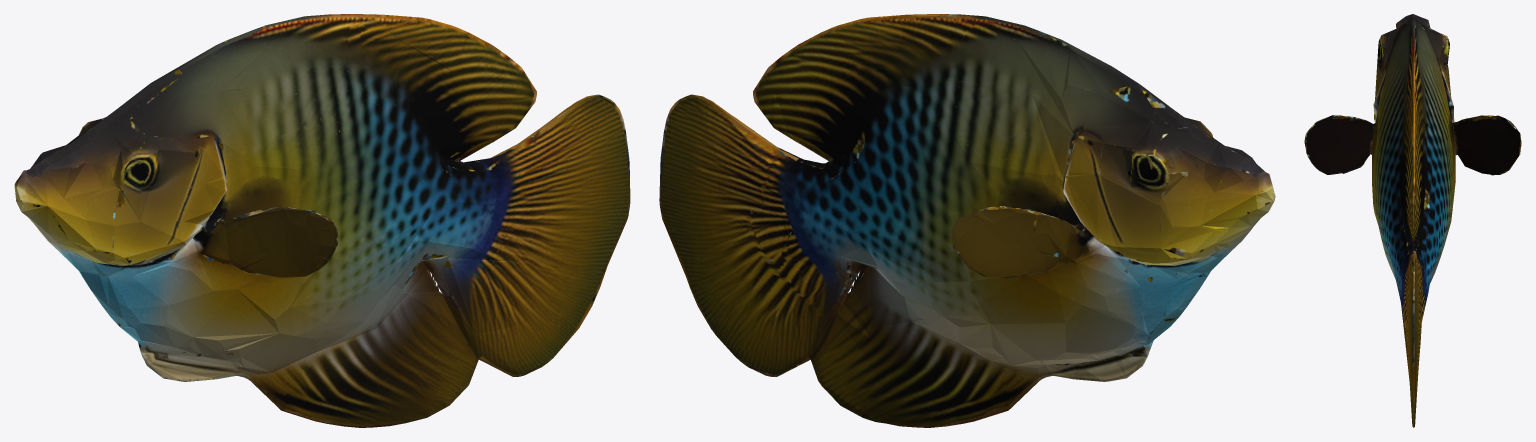
The model's file is fish_0081_smpl23_resized.glb.
3 renders of one model, left to right at view 1: azimuth 30°, elevation 25°; view 2: azimuth 150°, elevation 25°; view 3: azimuth 270°, elevation 25°, orthographic. The views are drawn at different scales.
Parts seen in each view (by area): view 1: world; view 2: world; view 3: world.
Boxes of the visible parts, left/top/right/bottom form: world: left=14, top=14, right=630, bottom=427; world: left=659, top=14, right=1275, bottom=427; world: left=1304, top=14, right=1521, bottom=427.
Size of the model in its own units: 1.99 by 1.34 by 0.8449.
1 material, 1 textured.
